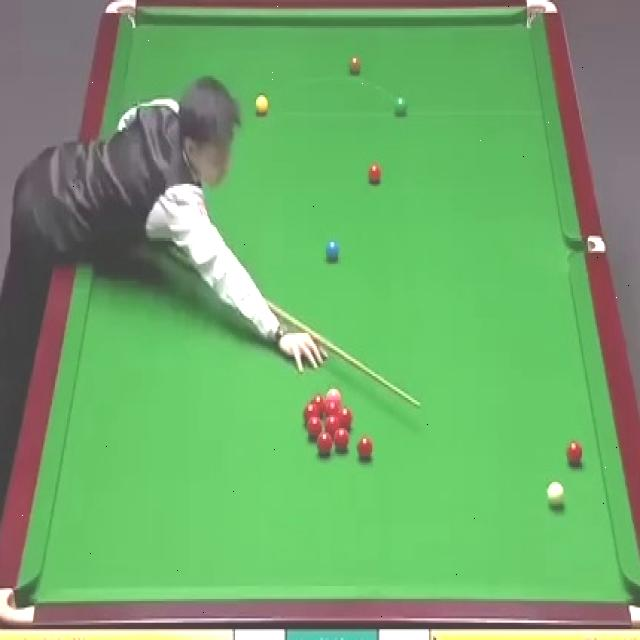blue-ball: (324, 240, 340, 264)
brown-ball: (347, 55, 362, 75)
green-ball: (394, 95, 408, 115)
pink-ball: (323, 383, 339, 397)
red-ball: (565, 440, 582, 469), (356, 436, 374, 463), (333, 426, 350, 451), (366, 162, 383, 187), (318, 426, 333, 450), (301, 402, 319, 422), (340, 407, 354, 430), (310, 395, 326, 415), (306, 421, 321, 438), (327, 398, 339, 414), (325, 417, 340, 429)
white-ball: (546, 481, 564, 506)
yellow-ball: (254, 94, 268, 116)
